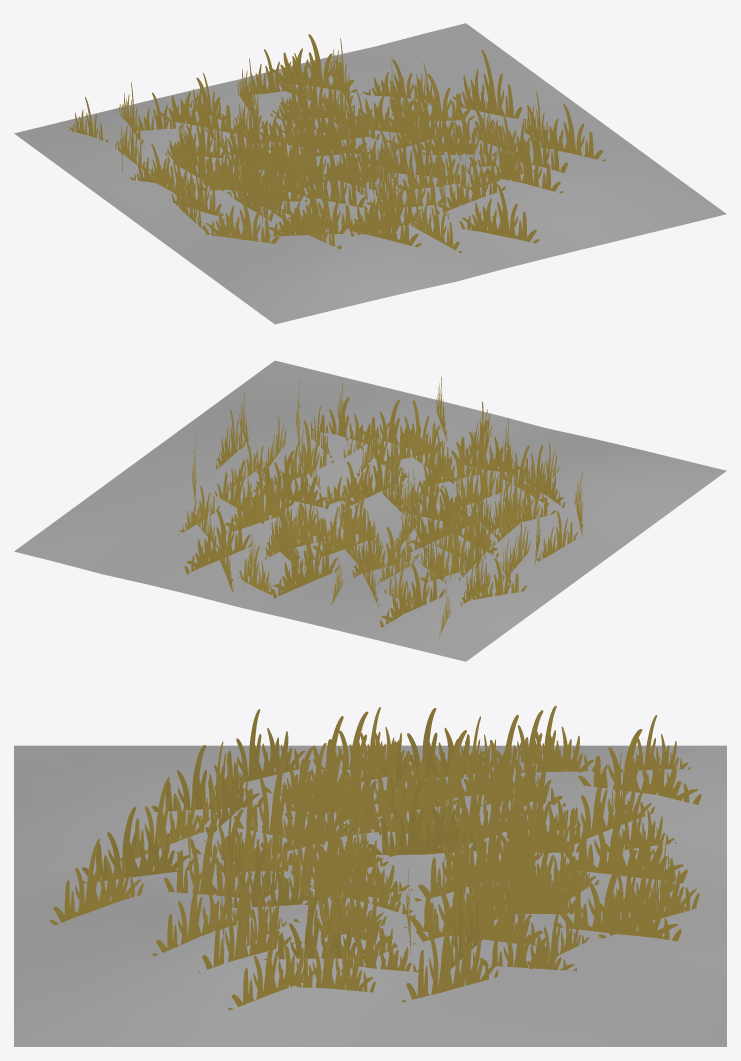
The model's file is FieldTile1.fbx.
3 views of the same model, one above another, from view 1: azimuth 30°, elevation 25°; view 2: azimuth 150°, elevation 25°; view 3: azimuth 270°, elevation 25° (orthographic). The views are drawn at different scales.
Visible parts, largest first — view 1: FieldTile1; view 2: FieldTile1; view 3: FieldTile1.
Part boxes in pixels (left/top/right/bottom): FieldTile1: left=14, top=23, right=726, bottom=324; FieldTile1: left=14, top=360, right=726, bottom=661; FieldTile1: left=14, top=705, right=726, bottom=1046.
Bounding box in the file's own units: 100 × 18.03 × 100.
